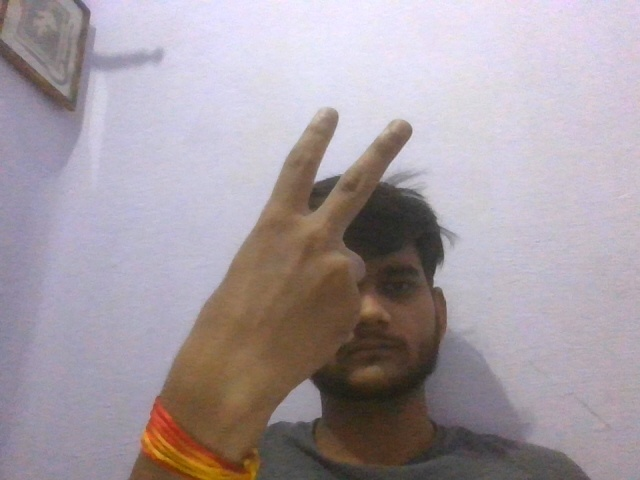yes: (214, 93, 421, 480)
